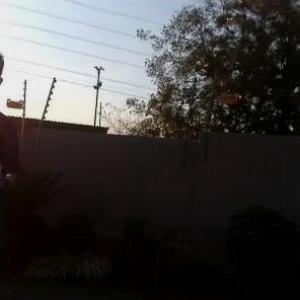follow: (0, 47, 23, 299)
